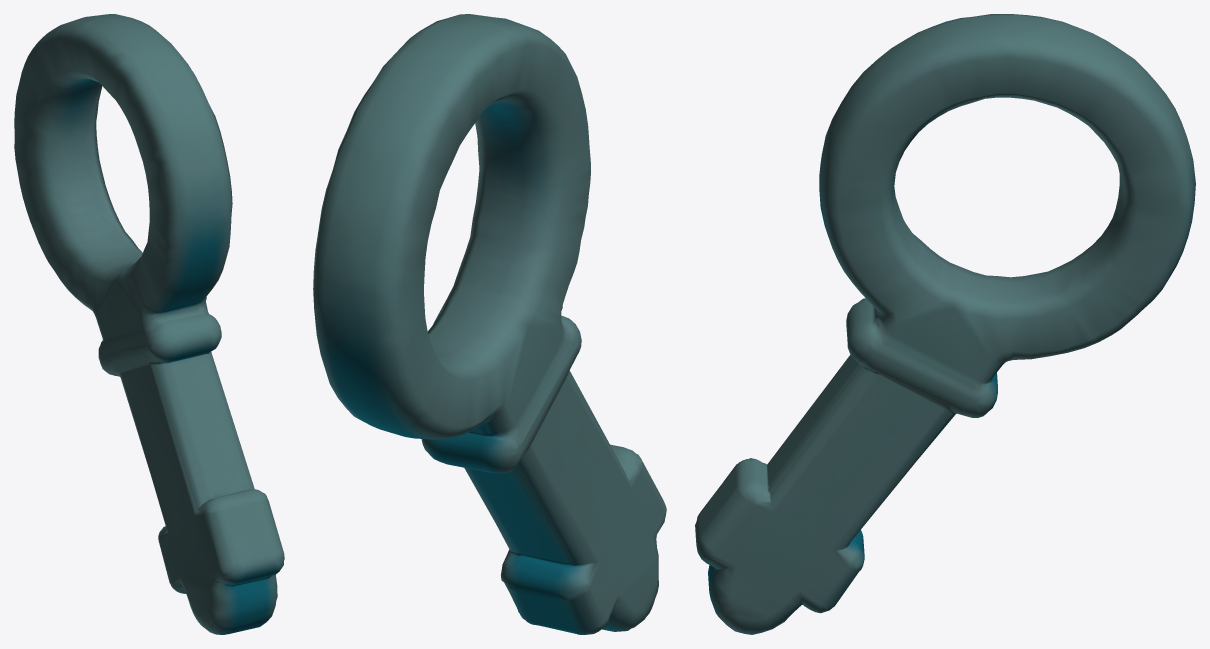
Rendered from icon-key.glb.
3 renders of one model, left to right at view 1: azimuth 30°, elevation 25°; view 2: azimuth 150°, elevation 25°; view 3: azimuth 270°, elevation 25°, orthographic. The views are drawn at different scales.
Parts seen in each view (by area): view 1: tripo_node_kodyurd-model-51____________________; view 2: tripo_node_kodyurd-model-51____________________; view 3: tripo_node_kodyurd-model-51____________________.
Boxes of the visible parts, x1,y1,x2,y2 form: tripo_node_kodyurd-model-51____________________: (14,14,284,634); tripo_node_kodyurd-model-51____________________: (313,14,666,634); tripo_node_kodyurd-model-51____________________: (695,14,1195,634).
Size of the model in its own units: 0.1465 by 0.998 by 0.7559.
Materials: 1 (1 with a texture image).
